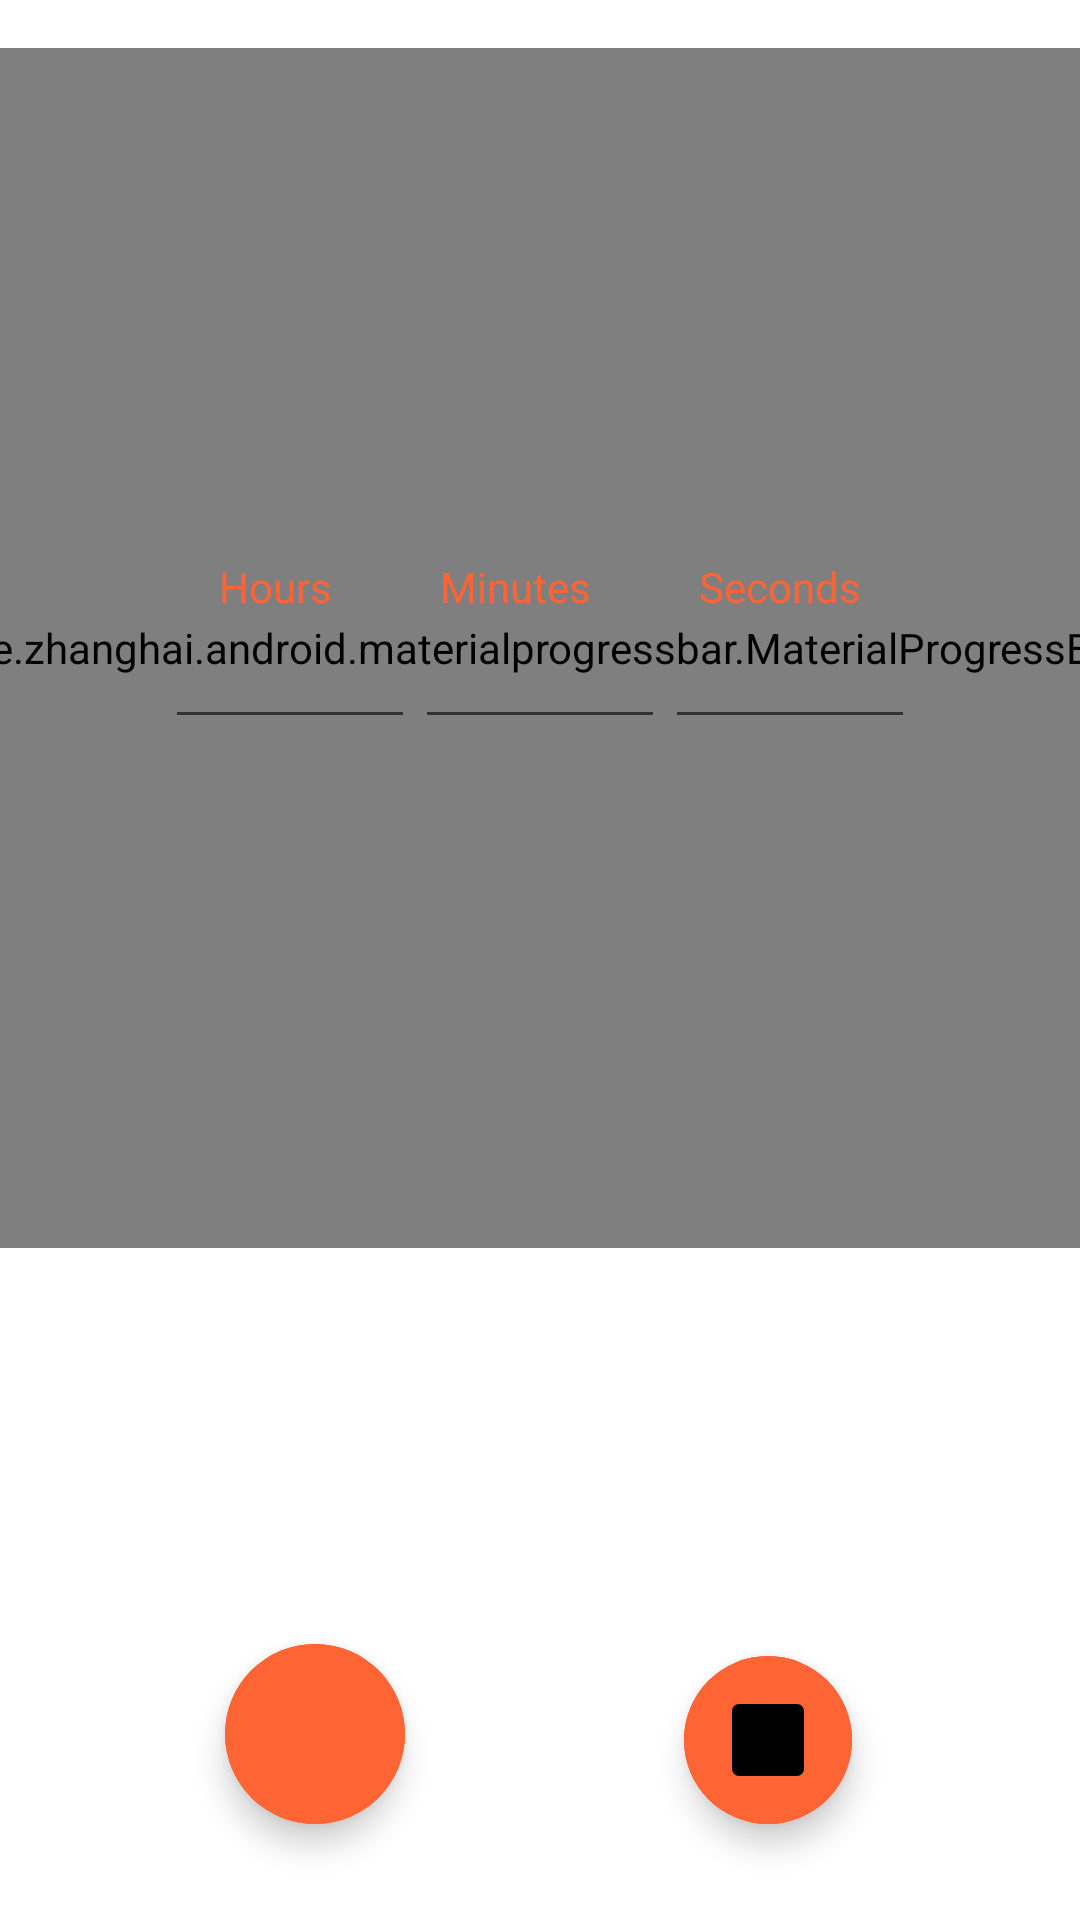

Screen size 1080×1920. Icon name, then its box in pixels as (x1, y1, x2, y2):
stop: (684, 1656, 852, 1824)
